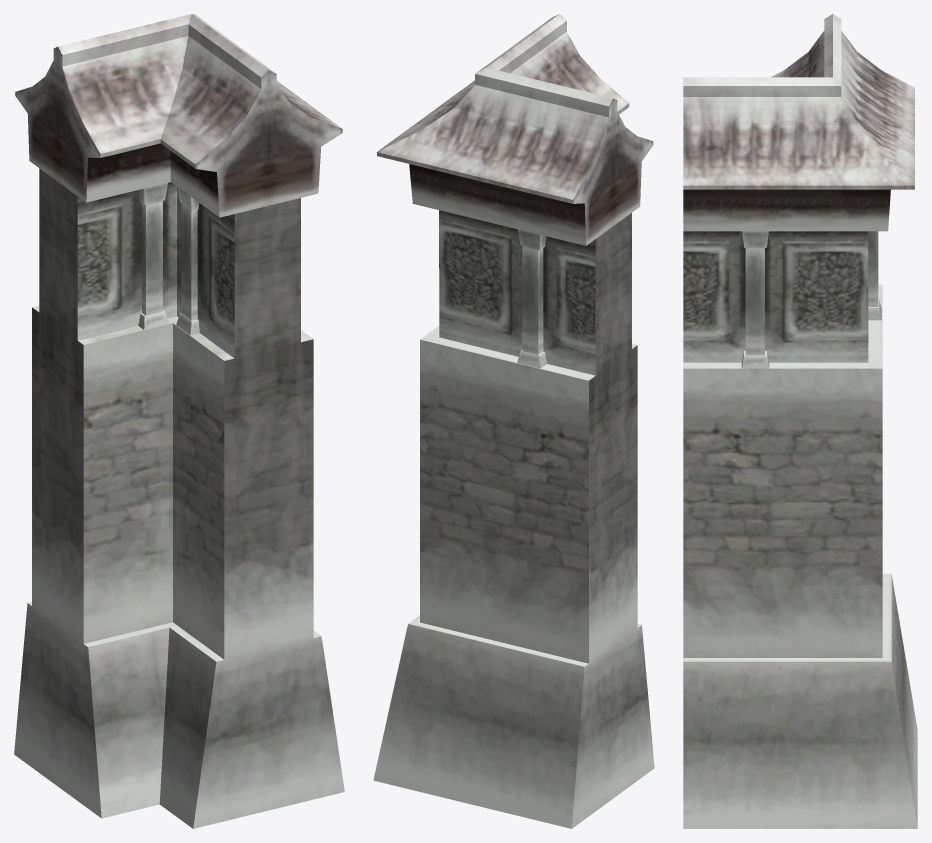
Rendered from snow-middledam-05.fbx.
The picture shows the model from 3 angles, left to right: view 1: azimuth 30°, elevation 25°; view 2: azimuth 150°, elevation 25°; view 3: azimuth 270°, elevation 25°; orthographic projection. The views are drawn at different scales.
Visible parts, largest first — view 1: snow-middledam-02; view 2: snow-middledam-02; view 3: snow-middledam-02.
Boxes of the visible parts, <box> form: snow-middledam-02: <box>14,14,344,828</box>; snow-middledam-02: <box>373,14,654,828</box>; snow-middledam-02: <box>683,14,917,828</box>.
Bounding box in the file's own units: 2.35 × 7.92 × 2.35.
